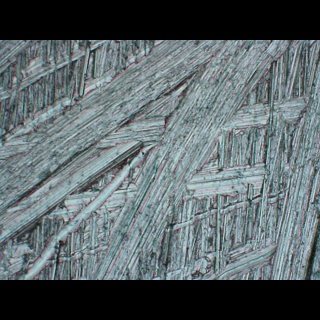d: (2, 41, 320, 279)
